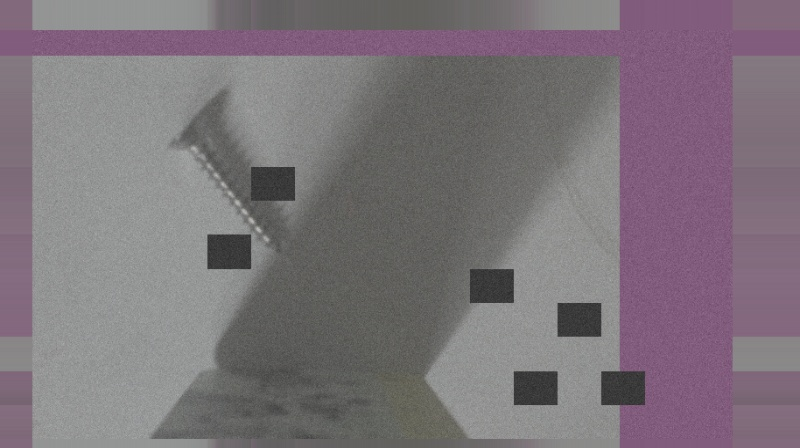S001: (165, 115, 290, 258)
